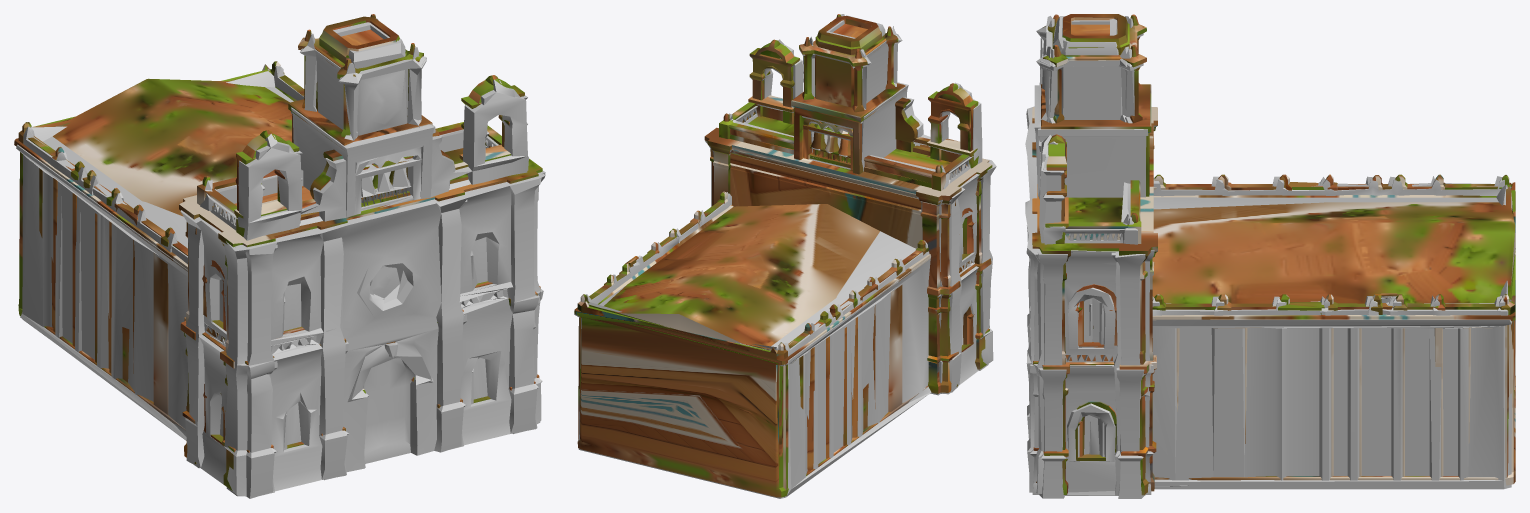
File: CatedralTotal.fbx
3 renders of one model, left to right at view 1: azimuth 30°, elevation 25°; view 2: azimuth 150°, elevation 25°; view 3: azimuth 270°, elevation 25°, orthographic. The views are drawn at different scales.
Visible parts, largest first — view 1: Bajo, Alto, Medio; view 2: Alto, Bajo, Medio; view 3: Medio, Alto, Bajo.
Boxes of the visible parts, x1,y1,x2,y2 form: Bajo: [16, 22, 545, 498]; Alto: [14, 14, 542, 490]; Medio: [22, 18, 545, 496]; Alto: [574, 14, 992, 497]; Bajo: [586, 14, 996, 497]; Medio: [574, 40, 988, 498]; Medio: [1029, 18, 1512, 498]; Alto: [1032, 14, 1515, 495]; Bajo: [1025, 16, 1507, 495].
Bounding box in the file's own units: 162 × 203 × 225.
